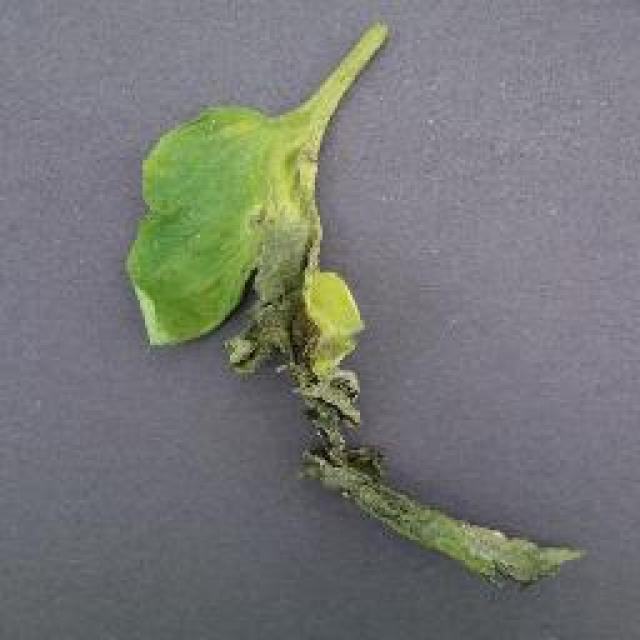Tomato Late Blight: (250, 118, 533, 587)
